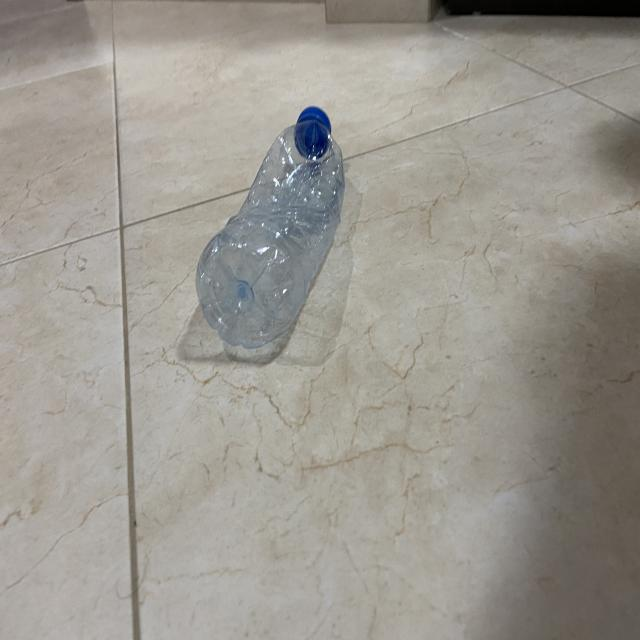plastic bottle: (194, 98, 358, 368)
